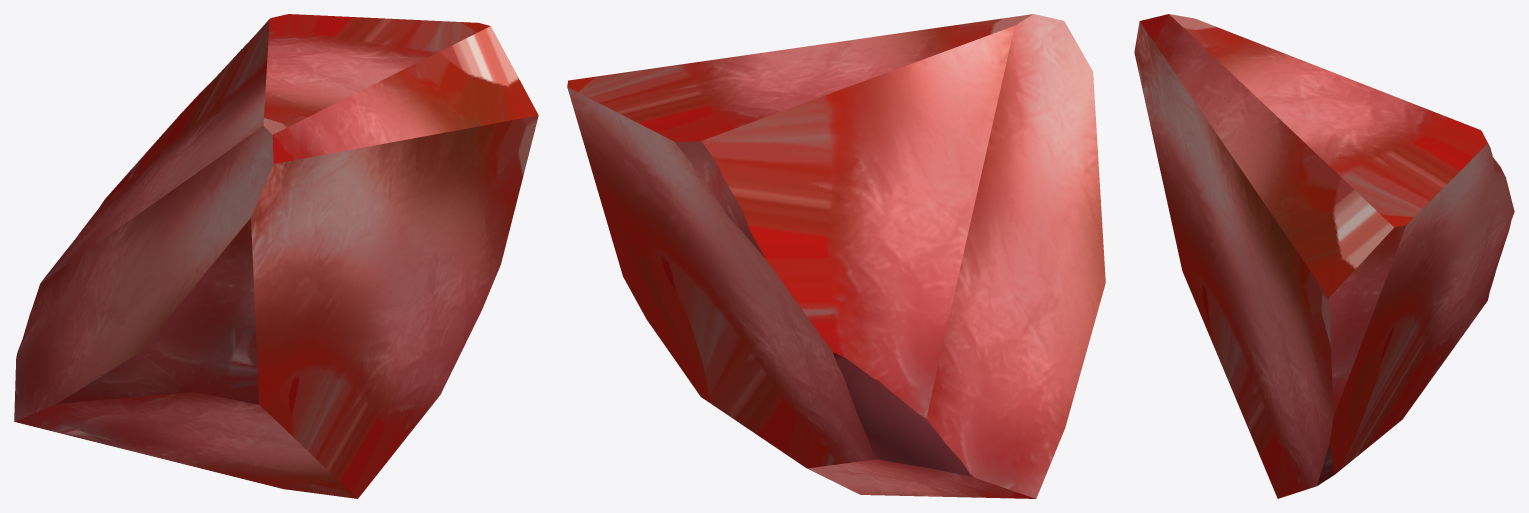
Rendered from SM_HeartPiece_8_.FBX.
3 views of the same model, side by side, from view 1: azimuth 30°, elevation 25°; view 2: azimuth 150°, elevation 25°; view 3: azimuth 270°, elevation 25° (orthographic). The views are drawn at different scales.
Parts seen in each view (by area): view 1: SM_HeartPiece_8_; view 2: SM_HeartPiece_8_; view 3: SM_HeartPiece_8_.
Part boxes in pixels (bbox=[...]): SM_HeartPiece_8_: bbox=[14, 14, 538, 498]; SM_HeartPiece_8_: bbox=[567, 14, 1105, 498]; SM_HeartPiece_8_: bbox=[1134, 14, 1514, 498].
Bounding box in the file's own units: 408 × 294 × 357.
